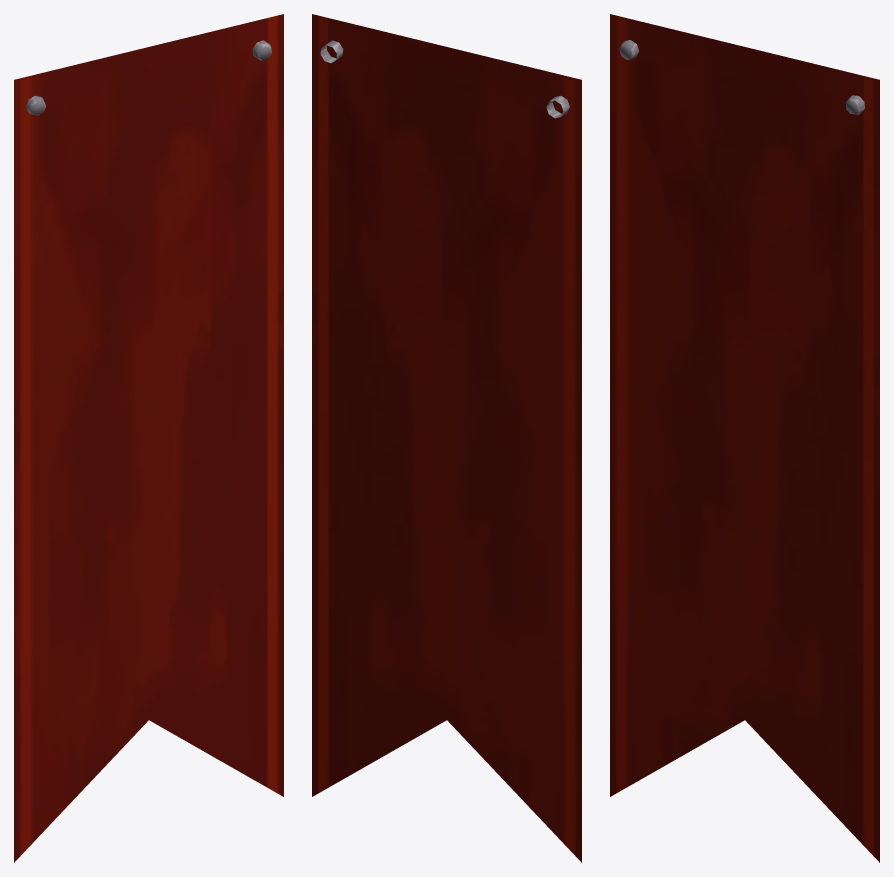
The model's file is Banner 1 Cloth.glb.
3 views of the same model, side by side, from view 1: azimuth 30°, elevation 25°; view 2: azimuth 150°, elevation 25°; view 3: azimuth 330°, elevation 25° (orthographic).
Parts seen in each view (by area): view 1: Banner_1_Cloth; view 2: Banner_1_Cloth; view 3: Banner_1_Cloth.
Part boxes in pixels (x1,y1,x2,y2): Banner_1_Cloth: (14,14,283,862); Banner_1_Cloth: (312,14,581,862); Banner_1_Cloth: (610,14,879,862).
Size of the model in its own units: 0.8102 by 2.25 by 0.0568.
Materials: 2 (2 with a texture image).
